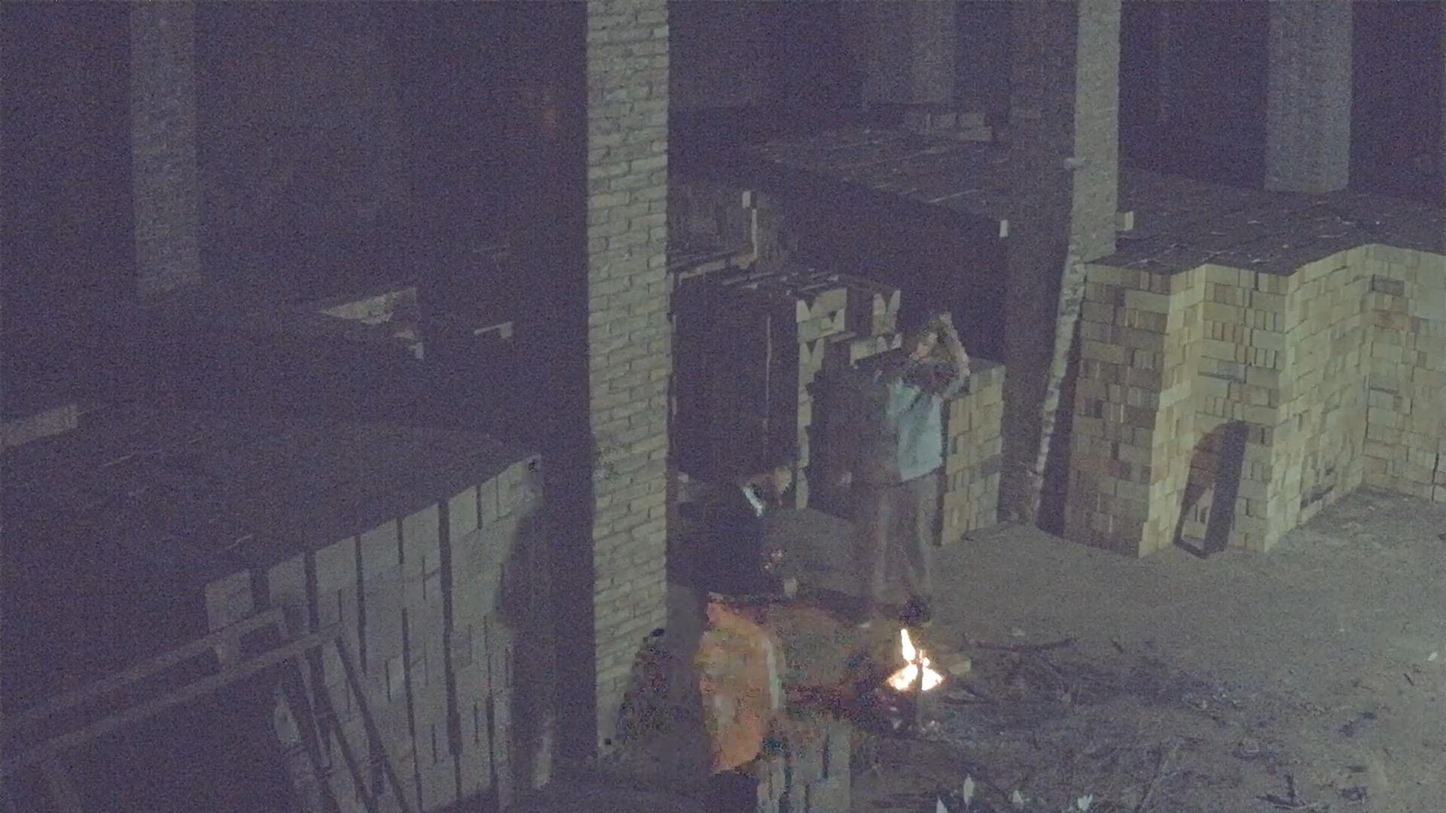fire: (888, 630, 943, 692)
